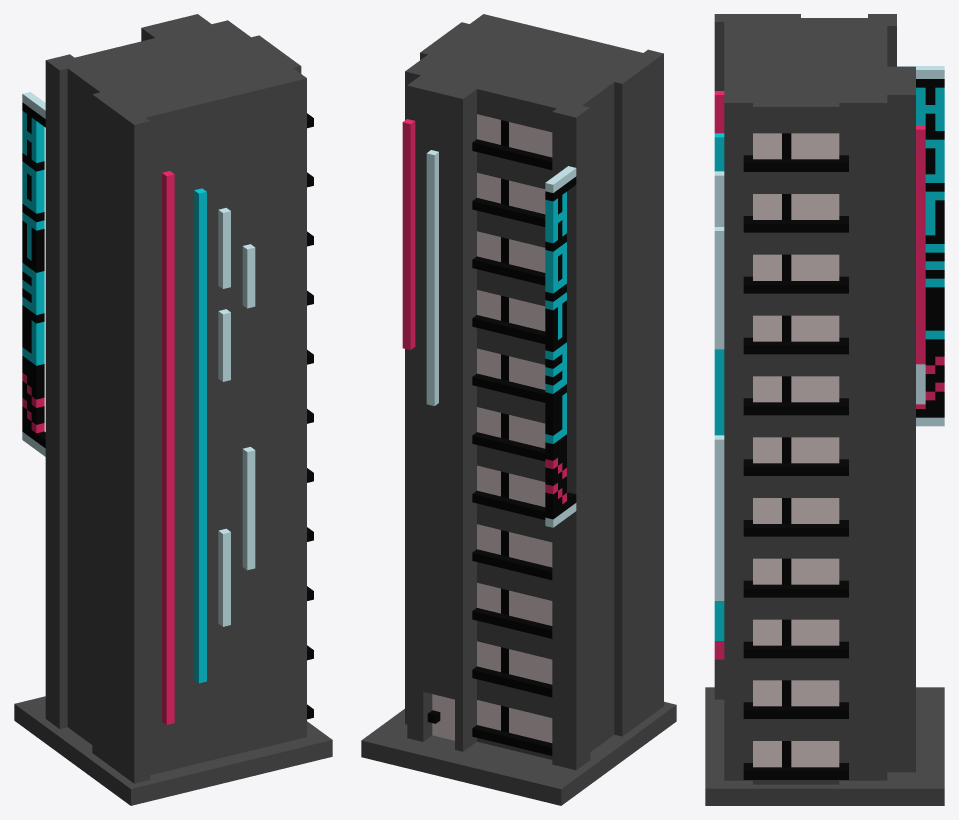
3 views of the same model, side by side, from view 1: azimuth 30°, elevation 25°; view 2: azimuth 150°, elevation 25°; view 3: azimuth 270°, elevation 25° (orthographic). The views are drawn at different scales.
Visible parts, largest first — view 1: Cube.4608; view 2: Cube.4608; view 3: Cube.4608.
Part boxes in pixels (x1,y1,x2,y2): Cube.4608: [14, 14, 332, 805]; Cube.4608: [361, 14, 676, 805]; Cube.4608: [705, 14, 944, 805].
Size of the model in its own units: 2500 by 8000 by 2500.
